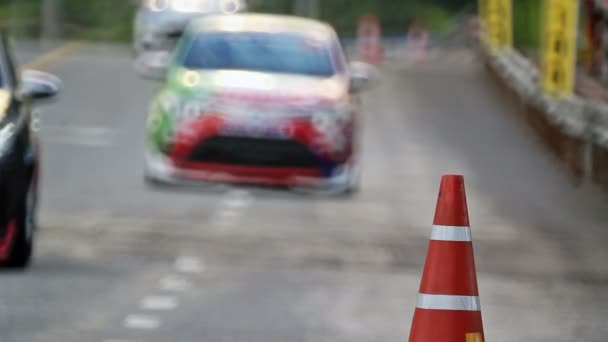cone: (386, 173, 505, 342)
